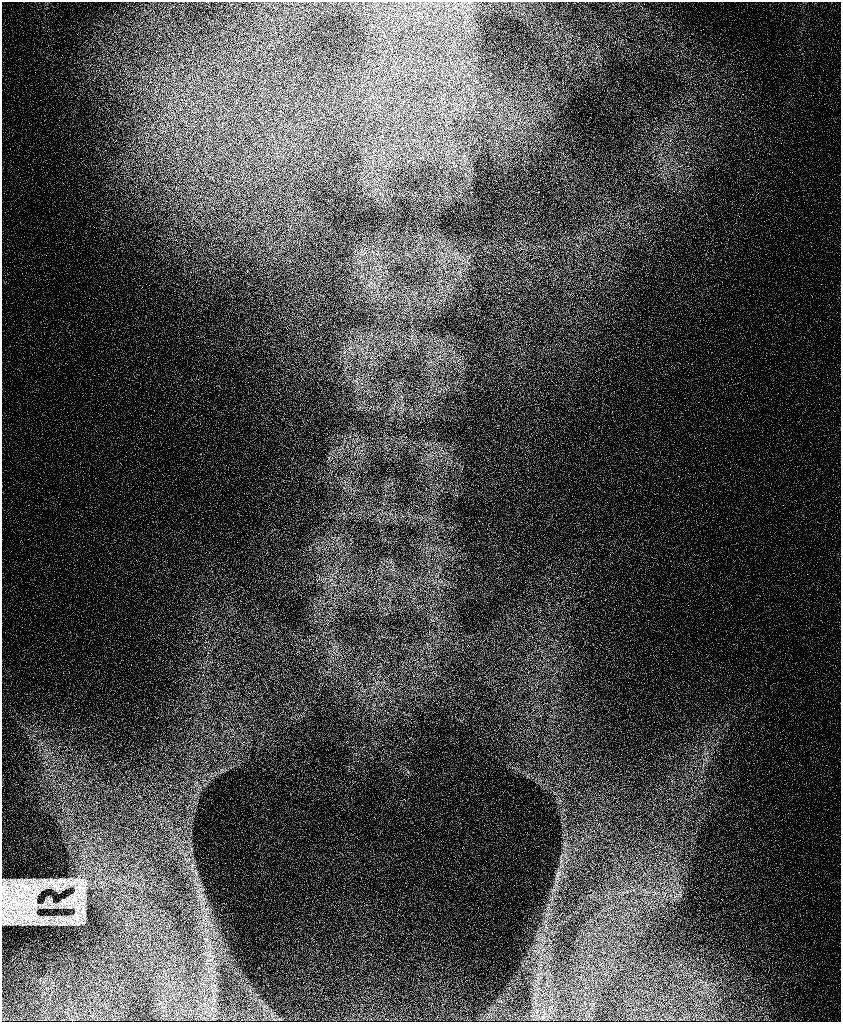lumbar scoliosis: (313, 83, 481, 707)
